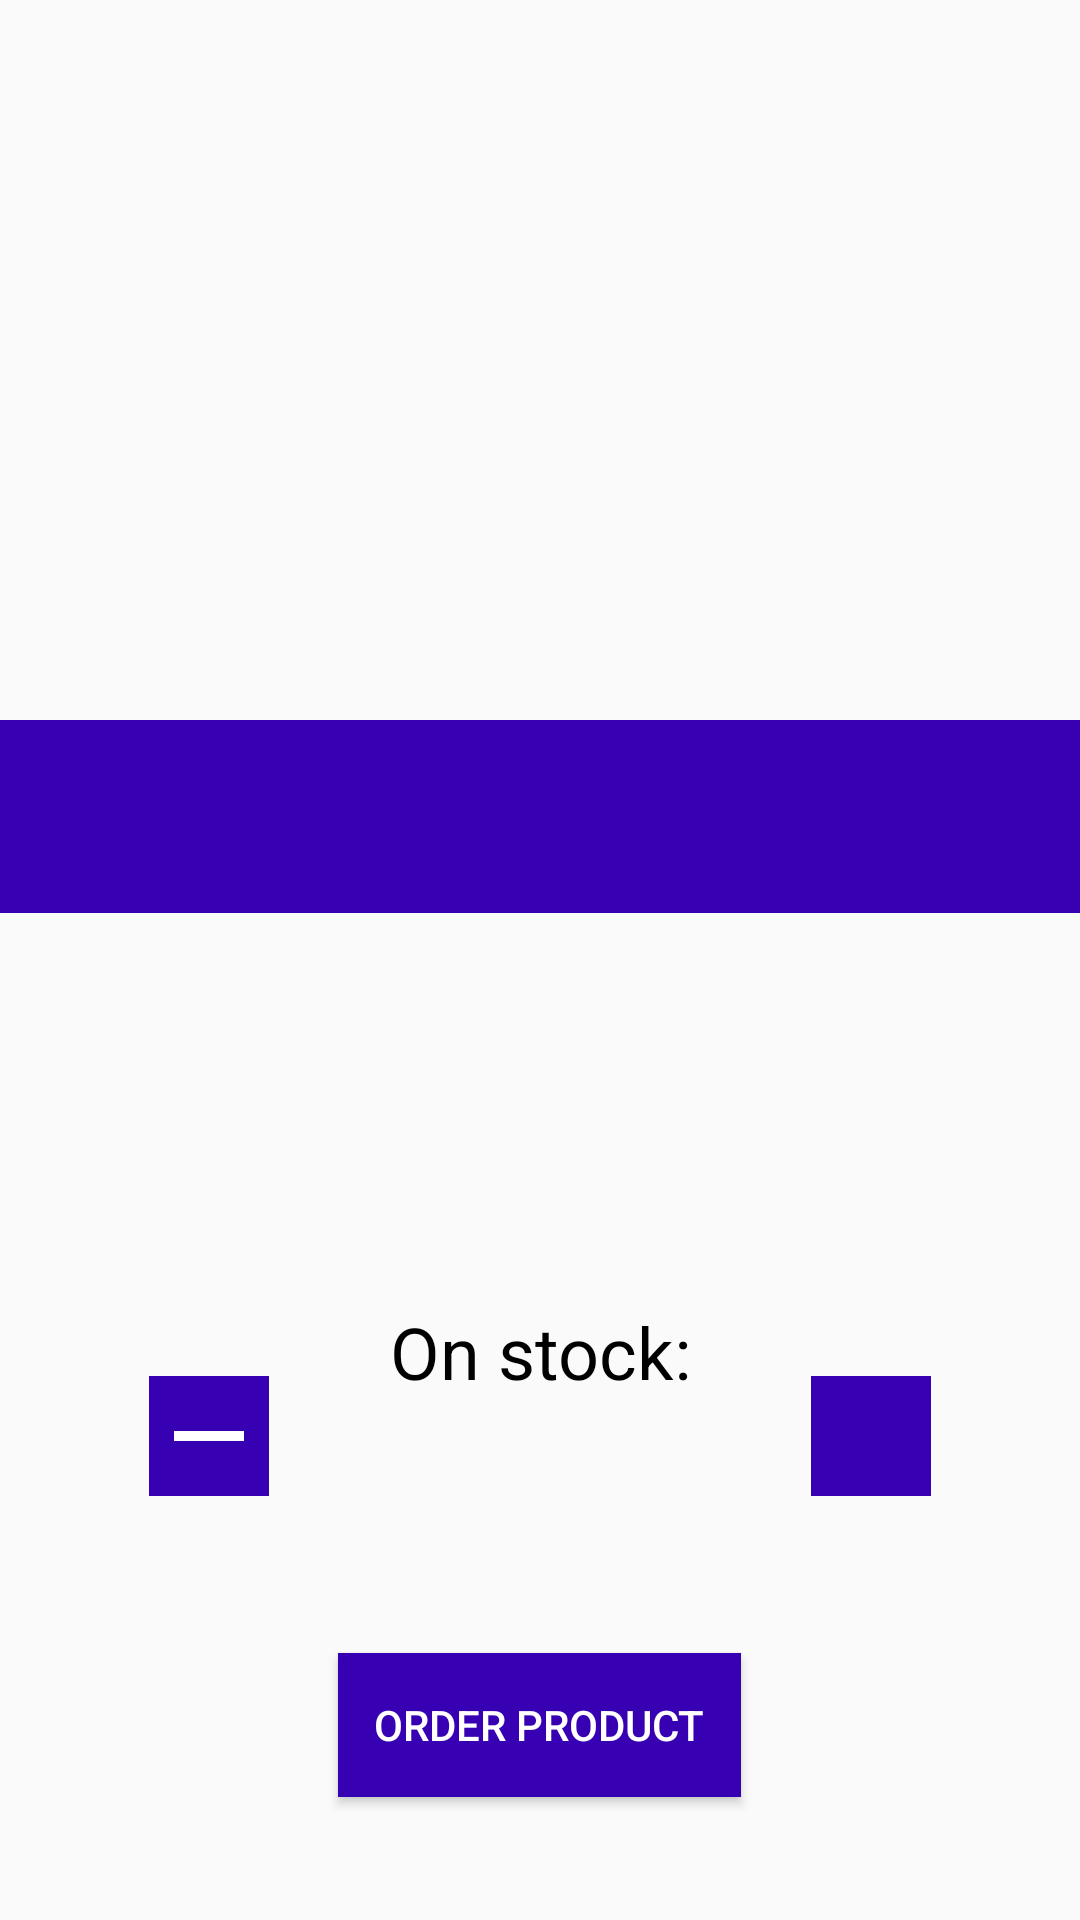

Screen size 1080x1920. Icon name, then its box in pixels as (x1, y1, x2, y2):
remove: (149, 1376, 269, 1496)
